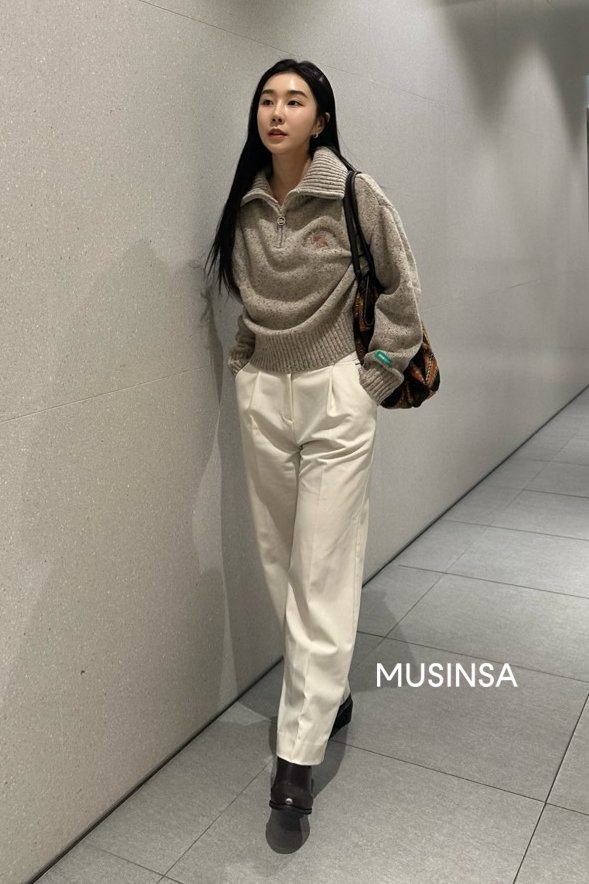Bag: (343, 172, 448, 419)
Pants: (226, 352, 355, 775)
Shoes: (265, 687, 357, 822)
Top: (212, 155, 416, 404)
